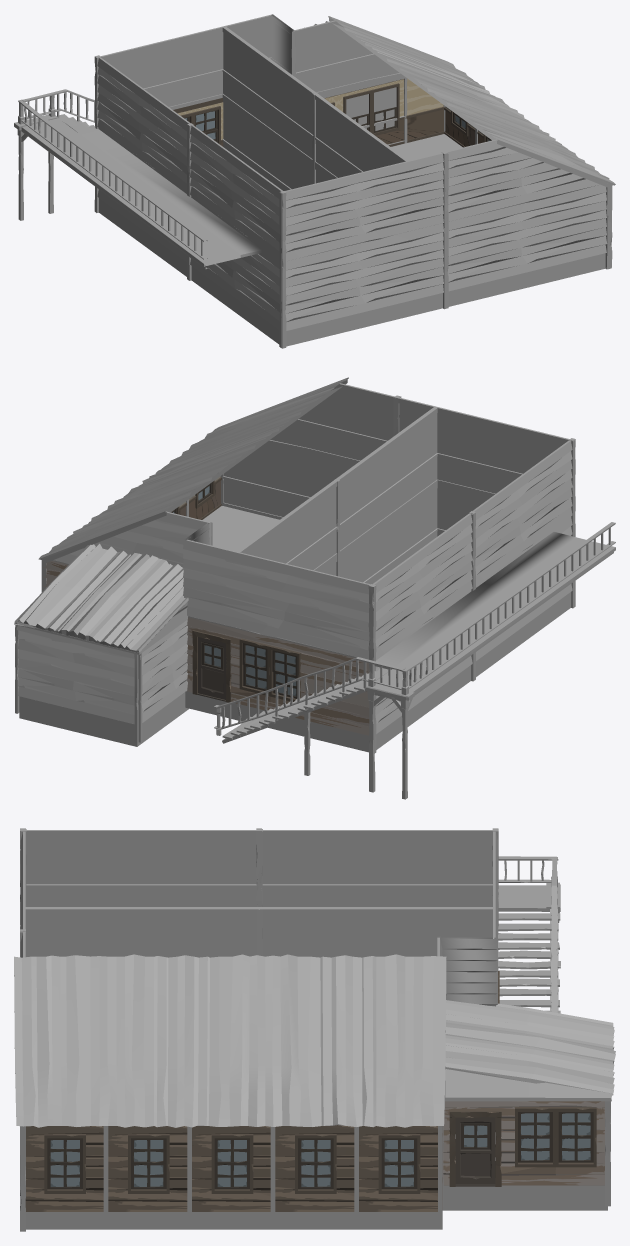
File: MainWarehouseBuilding.fbx
3 views of the same model, one above another, from view 1: azimuth 30°, elevation 25°; view 2: azimuth 150°, elevation 25°; view 3: azimuth 270°, elevation 25° (orthographic). The views are drawn at different scales.
Parts seen in each view (by area): view 1: Bld_Double_05, Bld_Double_06, Bld_Stairs_03, Bld_Double_04, Bld_Double_11, Bld_Double_10, Bld_Single_Roof_01, Bld_Double_14, Bld_Double_15, Bld_Double_13, Bld_Single_Front_03, Bld_Double_02 (+2 smaller); view 2: Bld_Stairs_03, Bld_Double_14, Bld_Double_06, SM_Bld_Double_Roof_02, Bld_Double_13, Bld_Double_05, Bld_Double_07, Bld_Double_10, Bld_Double_04, Bld_Single_Roof_01, Bld_Single_Front_02, Bld_Double_11 (+5 smaller); view 3: Bld_Single_Roof_01, Bld_Window_Wall_01, Bld_Double_04, Bld_Double_10, SM_Bld_Double_Roof_02, Bld_Double_13, Bld_Double_11, Bld_Single_Front_01, Bld_Double_06, Bld_Stairs_03, Bld_Double_07, Bld_Double_14 (+3 smaller).
Boxes of the visible parts, x1,y1,x2,y2 form: Bld_Double_05: (280,152,448,348); Bld_Double_06: (391,134,612,309); Bld_Stairs_03: (14,89,262,268); Bld_Double_04: (187,123,282,348); Bld_Double_11: (222,26,317,190); Bld_Double_10: (94,55,190,278); Bld_Single_Roof_01: (328,16,615,188); Bld_Double_14: (95,14,293,128); Bld_Double_15: (292,20,406,98); Bld_Double_13: (315,94,409,183); Bld_Single_Front_03: (324,78,445,146); Bld_Double_02: (346,78,407,145); Bld_Stairs_03: (214,522,615,799); Bld_Double_14: (183,523,375,668); Bld_Double_06: (185,383,401,710); SM_Bld_Double_Roof_02: (14,543,188,654); Bld_Double_13: (336,406,437,584); Bld_Double_05: (197,395,575,752); Bld_Double_07: (15,620,188,746); Bld_Double_10: (369,513,475,753); Bld_Double_04: (469,440,575,680); Bld_Single_Roof_01: (38,377,348,563); Bld_Single_Front_02: (187,617,369,735); Bld_Double_11: (236,479,340,576); Bld_Single_Roof_01: (14,954,446,1127); Bld_Window_Wall_01: (25,1125,442,1212); Bld_Double_04: (21,828,261,906); Bld_Double_10: (257,828,498,969); SM_Bld_Double_Roof_02: (445,1000,615,1101); Bld_Double_13: (23,907,258,957); Bld_Double_11: (257,907,495,957); Bld_Single_Front_01: (443,1101,605,1186); Bld_Double_06: (20,929,442,1231); Bld_Stairs_03: (498,856,560,1013); Bld_Double_07: (443,1101,610,1210); Bld_Double_14: (440,829,498,1006).
Size of the model in its own units: 1770 by 742 by 1842.
